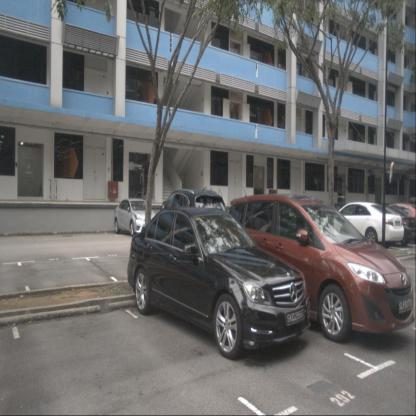human-pedestrian-adult: (316, 174, 320, 192), (321, 176, 324, 192), (314, 174, 317, 190), (315, 176, 318, 190)
vehicle-car: (225, 193, 415, 342), (127, 207, 311, 359), (156, 189, 229, 257), (320, 201, 404, 252), (358, 204, 416, 246), (113, 198, 157, 237), (380, 202, 416, 244)
